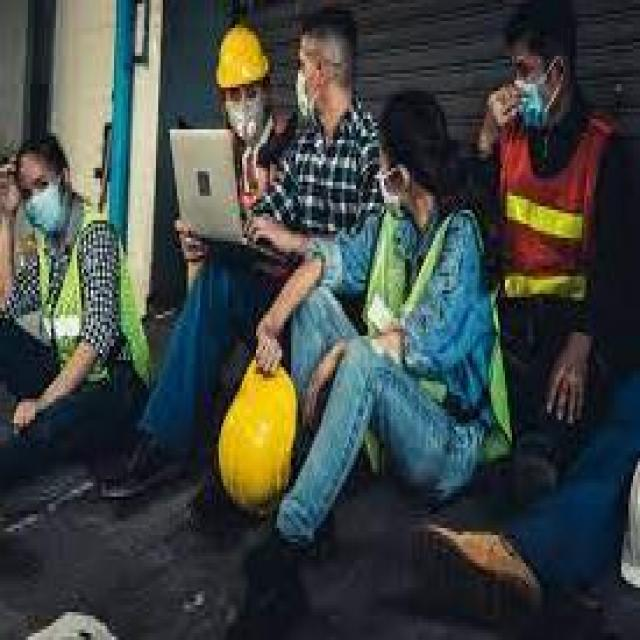Reflective-Jacket: (479, 94, 640, 385), (11, 206, 160, 410)
Safety-Helmet: (207, 353, 305, 521), (207, 18, 275, 102)
